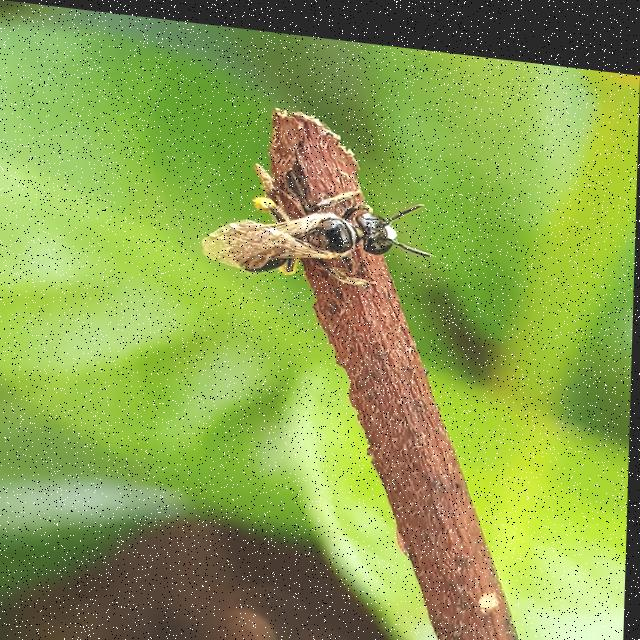Braunsapis: (193, 168, 439, 296)
